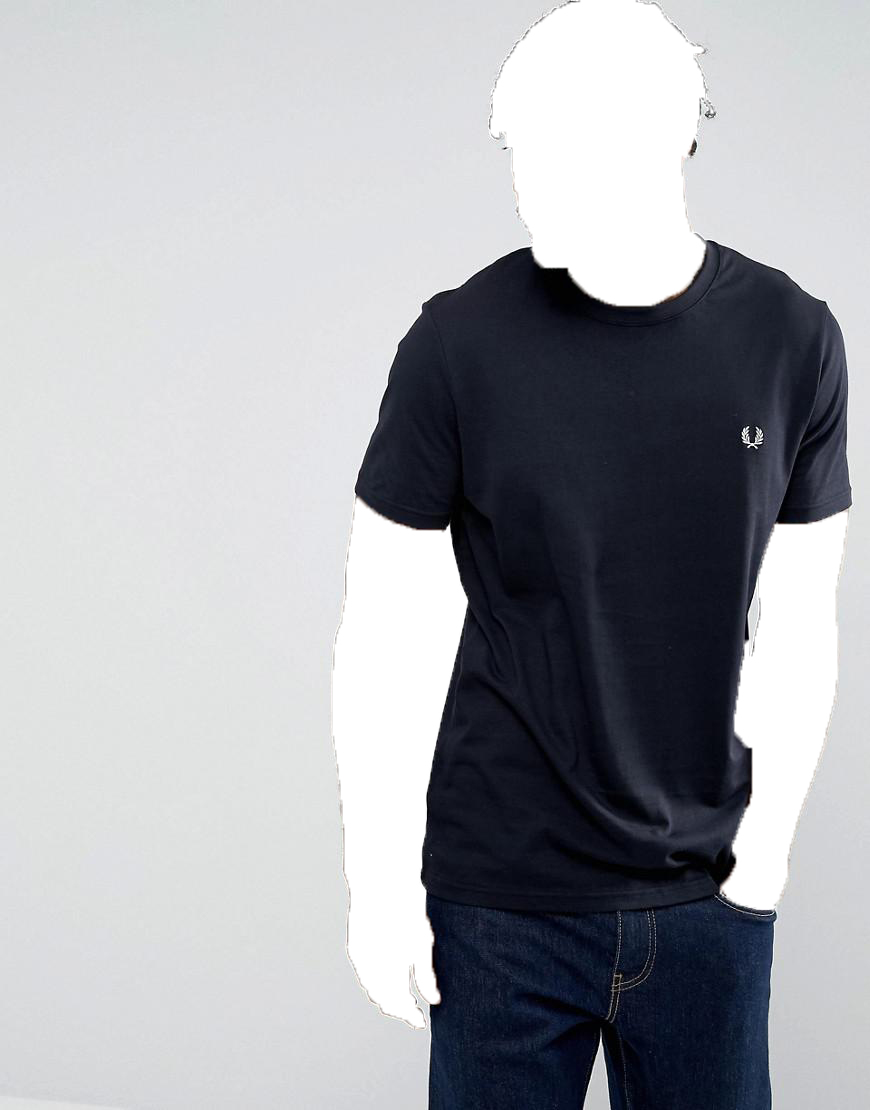teeshirt: (349, 247, 856, 925)
